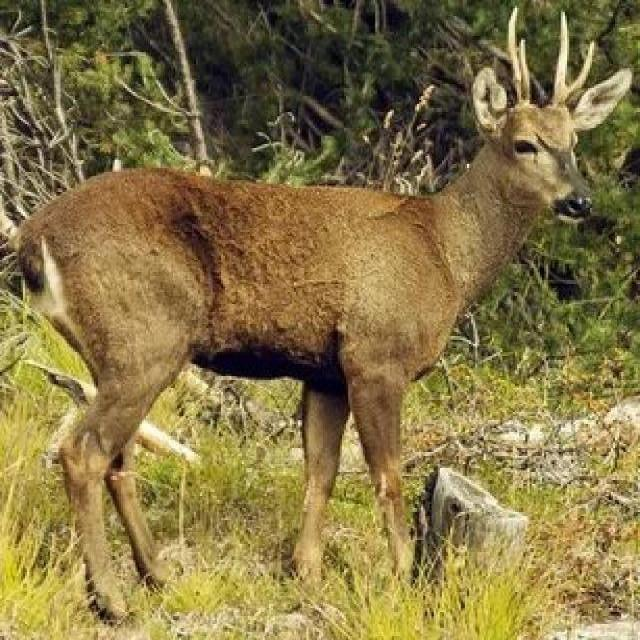deer: (23, 35, 640, 554)
